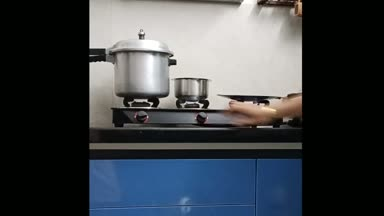flame_gas_off: (122, 96, 160, 122)
flame_gas_on: (178, 98, 212, 122)
